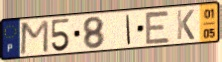5: (50, 17, 71, 53)
8: (82, 15, 107, 50)
E: (144, 10, 172, 46)
I: (125, 14, 132, 46)
K: (176, 9, 196, 41)
M: (19, 18, 50, 56)
